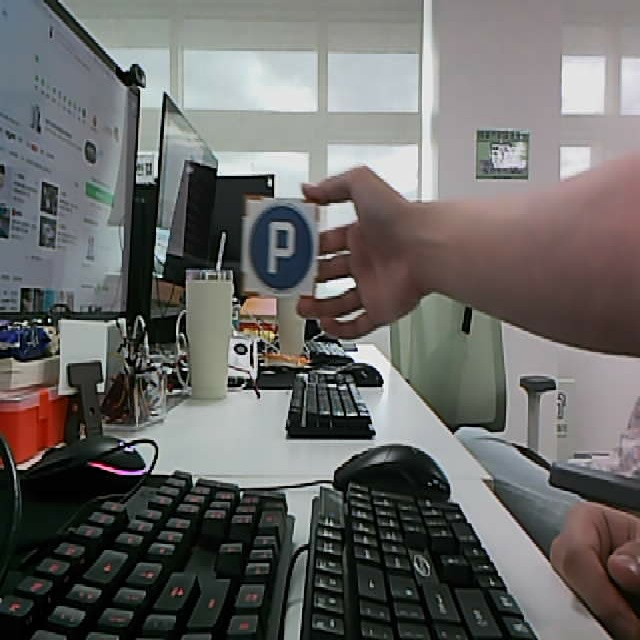parking: (235, 193, 319, 297)
